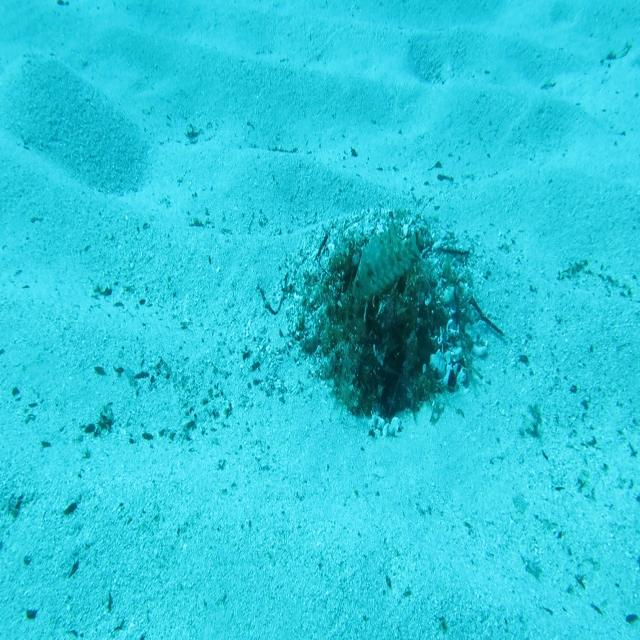NIP_IN: (350, 217, 423, 306)
core_nest: (355, 261, 407, 299)
nest: (280, 192, 505, 446)
